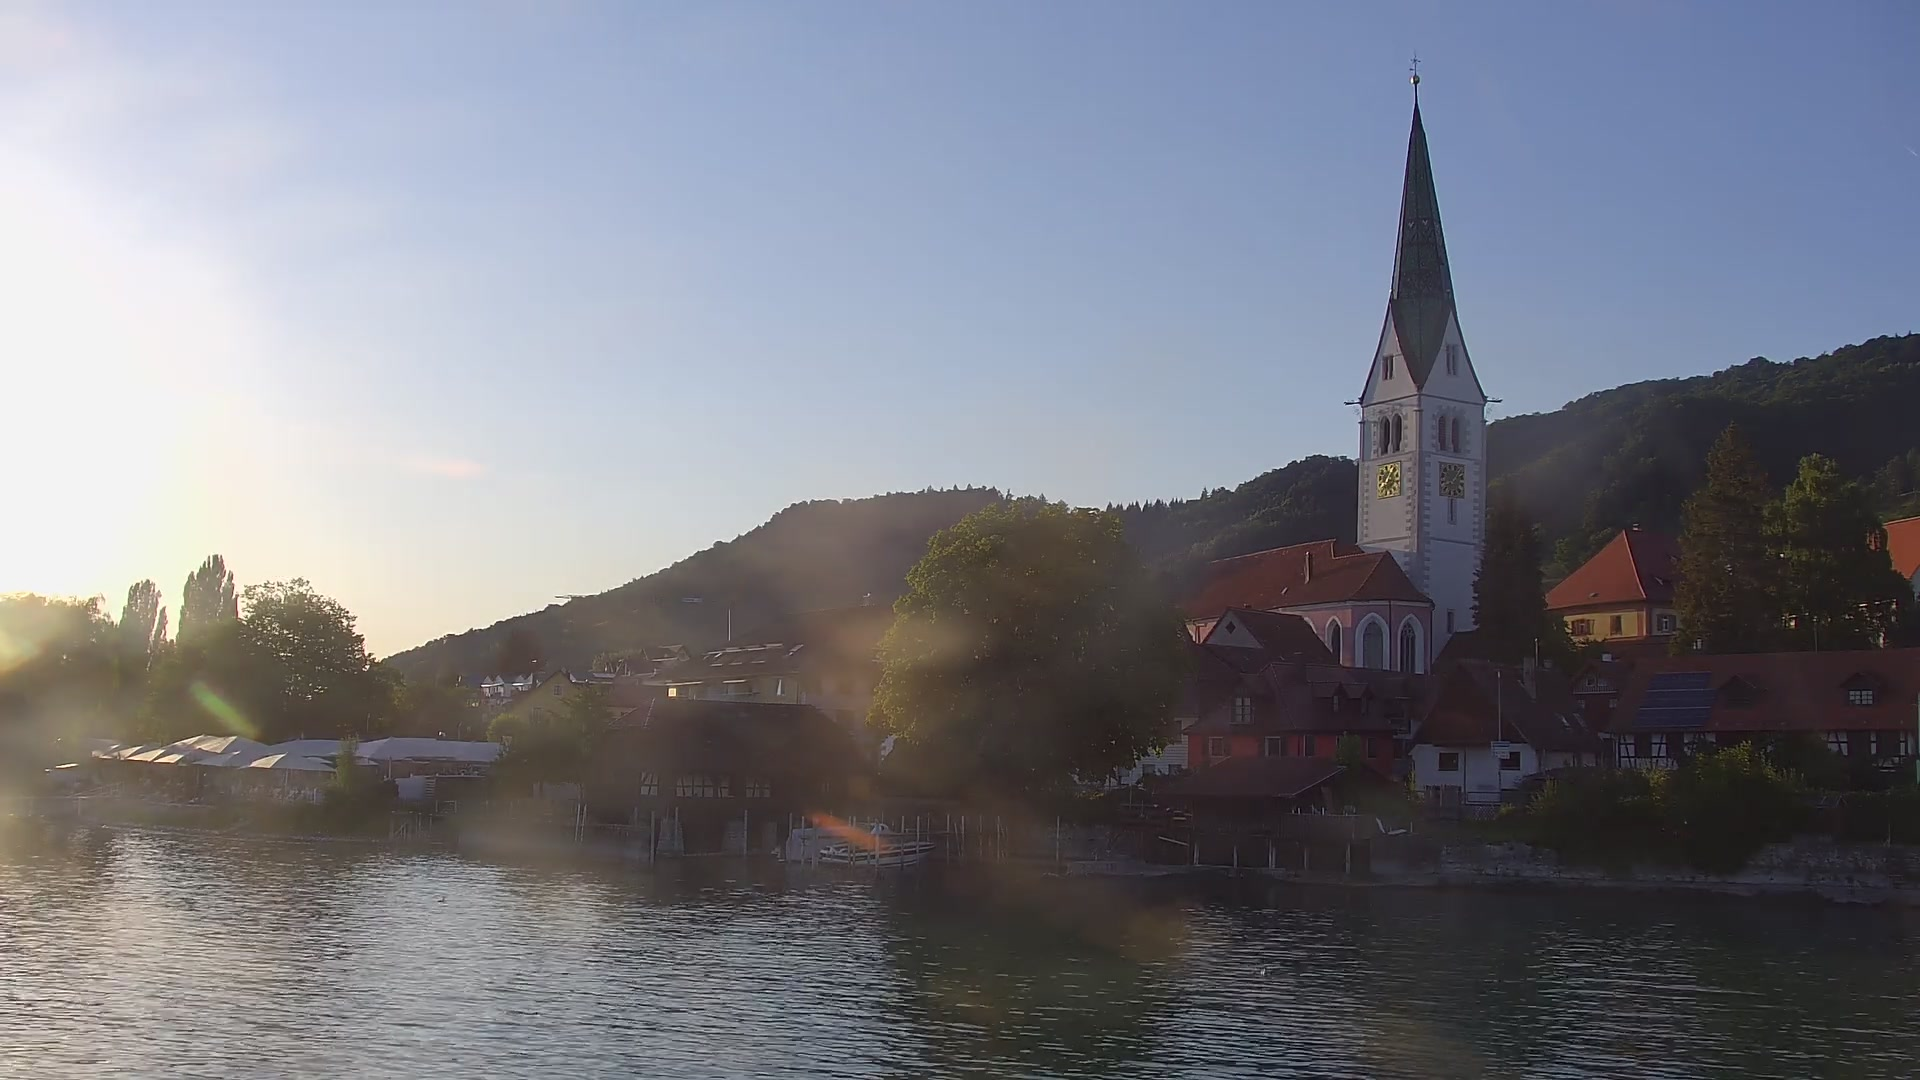sea: (818, 825, 938, 866)
